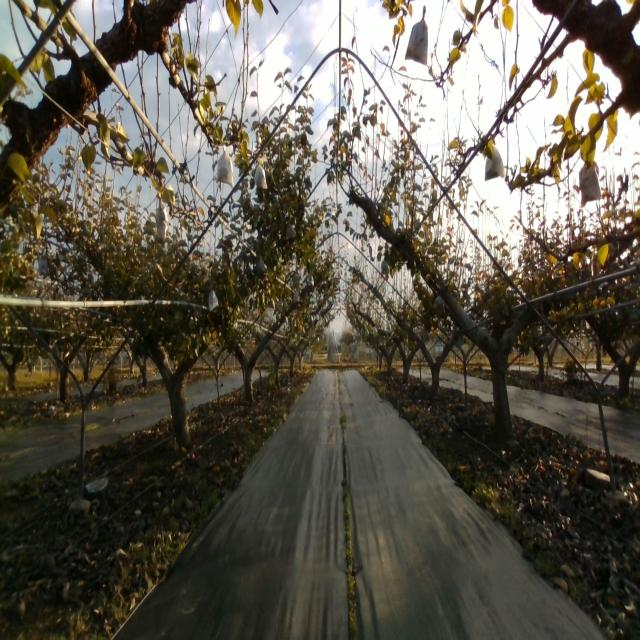pearbags: (405, 5, 428, 64), (579, 162, 601, 207), (484, 145, 505, 181), (216, 144, 233, 188), (156, 191, 168, 243), (254, 160, 268, 190), (432, 293, 446, 314), (208, 288, 220, 312), (257, 254, 266, 279), (286, 220, 296, 241)
